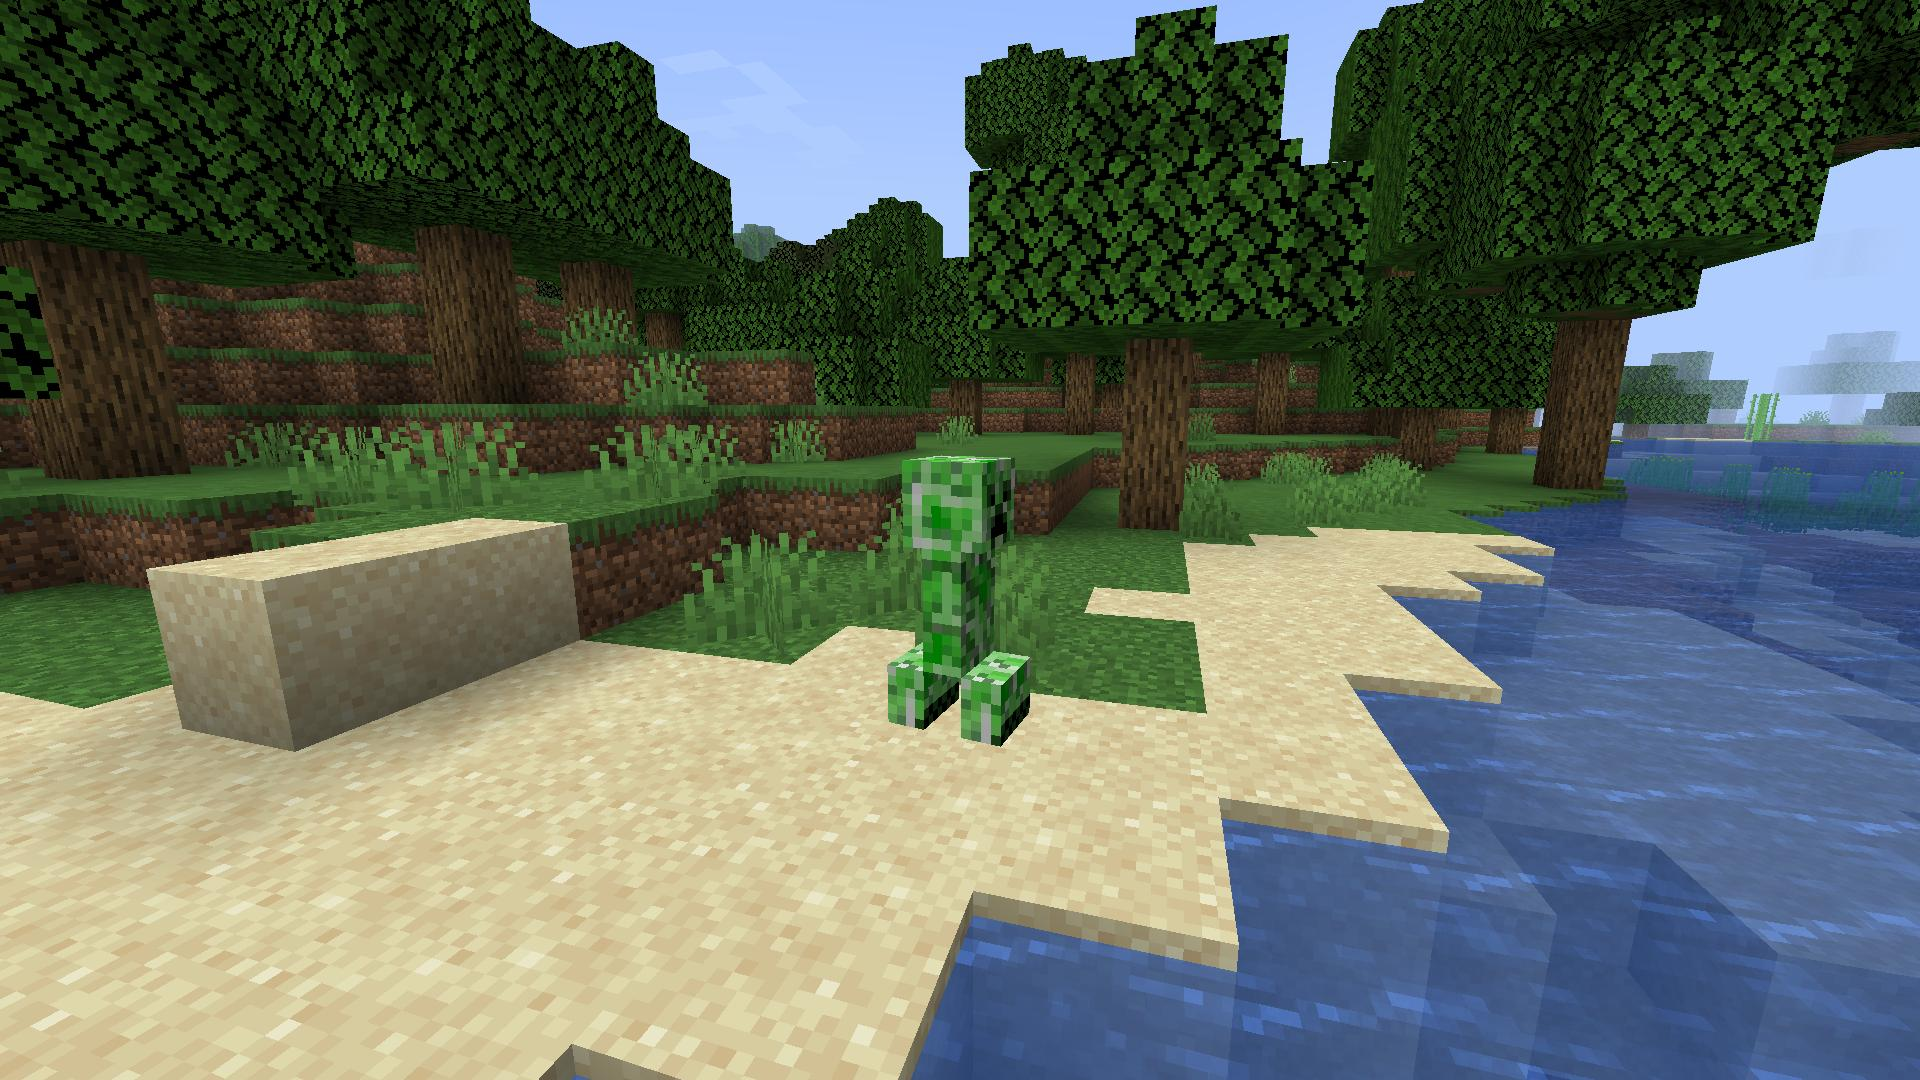creeper: (866, 442, 1044, 753)
